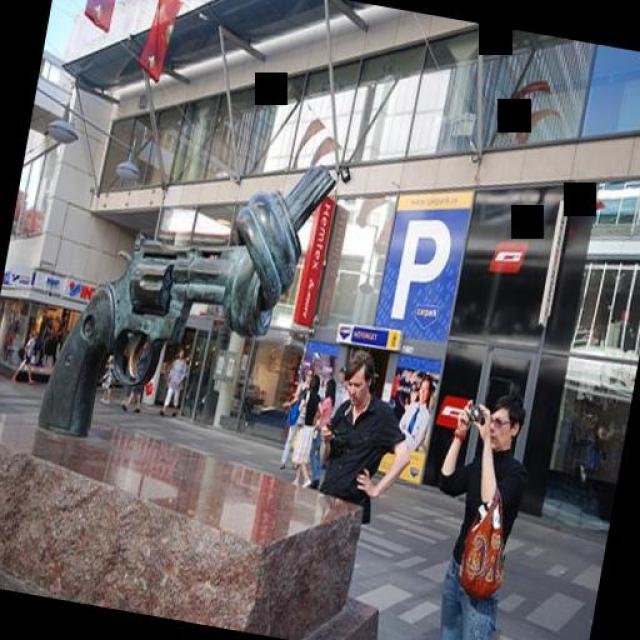gun: (35, 223, 233, 455)
